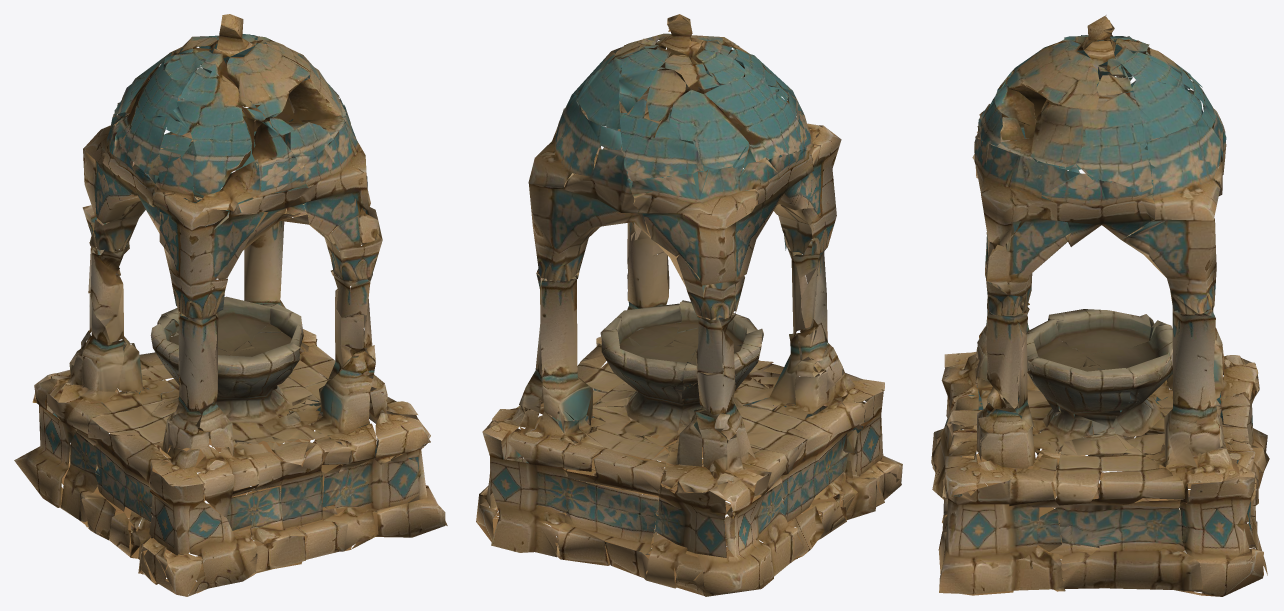
Rendered from DesertShrine.fbx.
3 views of the same model, side by side, from view 1: azimuth 30°, elevation 25°; view 2: azimuth 150°, elevation 25°; view 3: azimuth 270°, elevation 25° (orthographic). The views are drawn at different scales.
Visible parts, largest first — view 1: DesertShrine_Body; view 2: DesertShrine_Body; view 3: DesertShrine_Body.
Part boxes in pixels (box(x1,y1,x2,y2)): DesertShrine_Body: box(14, 14, 447, 596); DesertShrine_Body: box(476, 14, 902, 596); DesertShrine_Body: box(931, 15, 1269, 596).
Size of the model in its own units: 0.5994 by 1 by 0.5957.
1 material, 1 textured.
